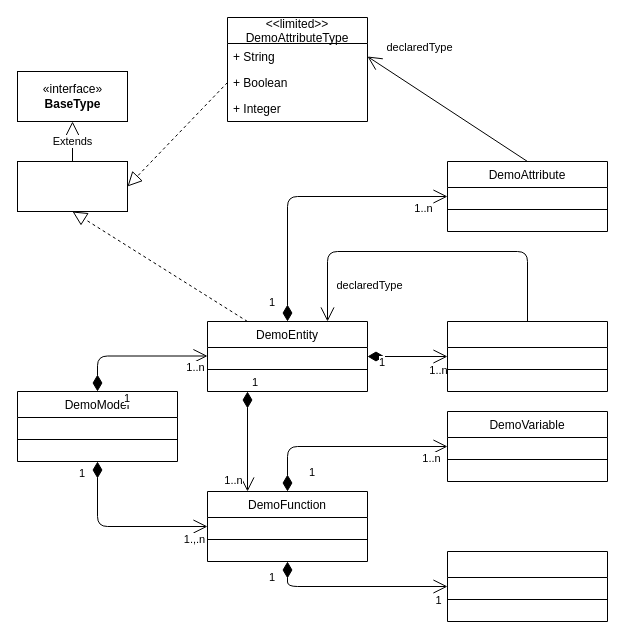
This 625x639 diagram has some shape labels left out. Here are the shapes that lost their labels. From the top down, the centre of each, then its label:
the point at 72,186: «interface» Type
the point at 527,356: DemoAttributeWithEntityType
the point at 527,586: DemoExpression
